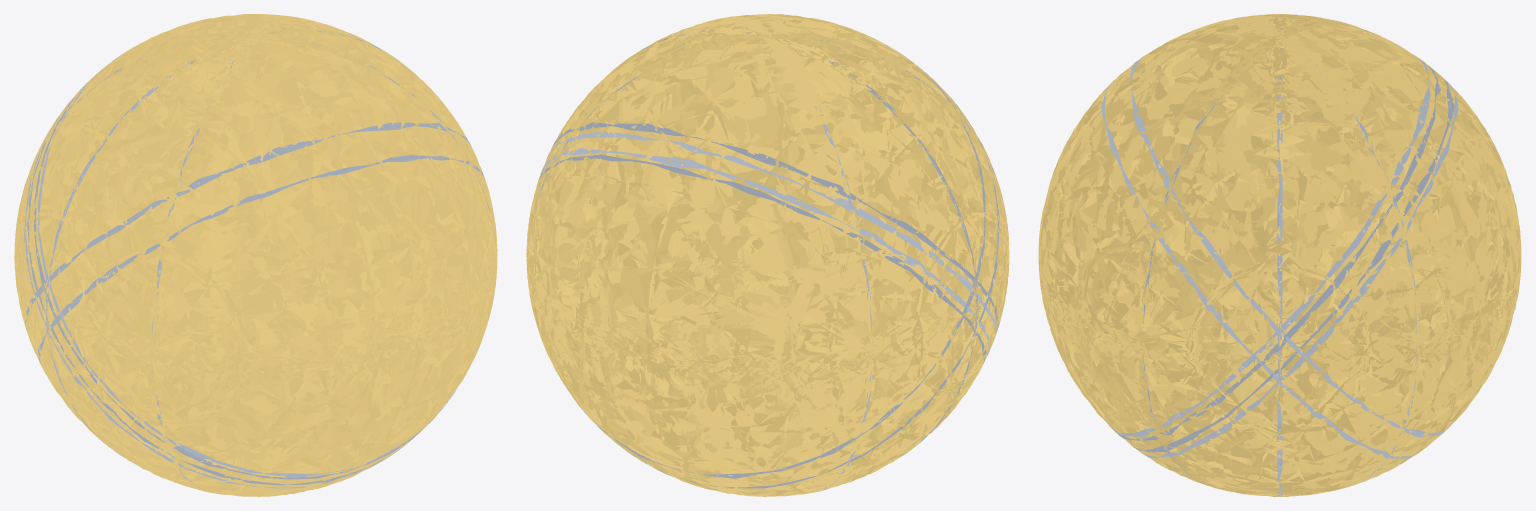
The picture shows the model from 3 angles, left to right: view 1: azimuth 30°, elevation 25°; view 2: azimuth 150°, elevation 25°; view 3: azimuth 270°, elevation 25°; orthographic projection.
Visible parts, largest first — view 1: anodes, structure; view 2: anodes, structure; view 3: anodes, structure.
Boxes of the visible parts, left/top/right/bottom form: anodes: left=14, top=14, right=497, bottom=496; structure: left=16, top=19, right=496, bottom=488; anodes: left=526, top=14, right=1009, bottom=496; structure: left=527, top=19, right=1007, bottom=491; anodes: left=1038, top=14, right=1521, bottom=496; structure: left=1101, top=14, right=1458, bottom=496.
Bounding box in the file's own units: 2 × 2 × 2.
